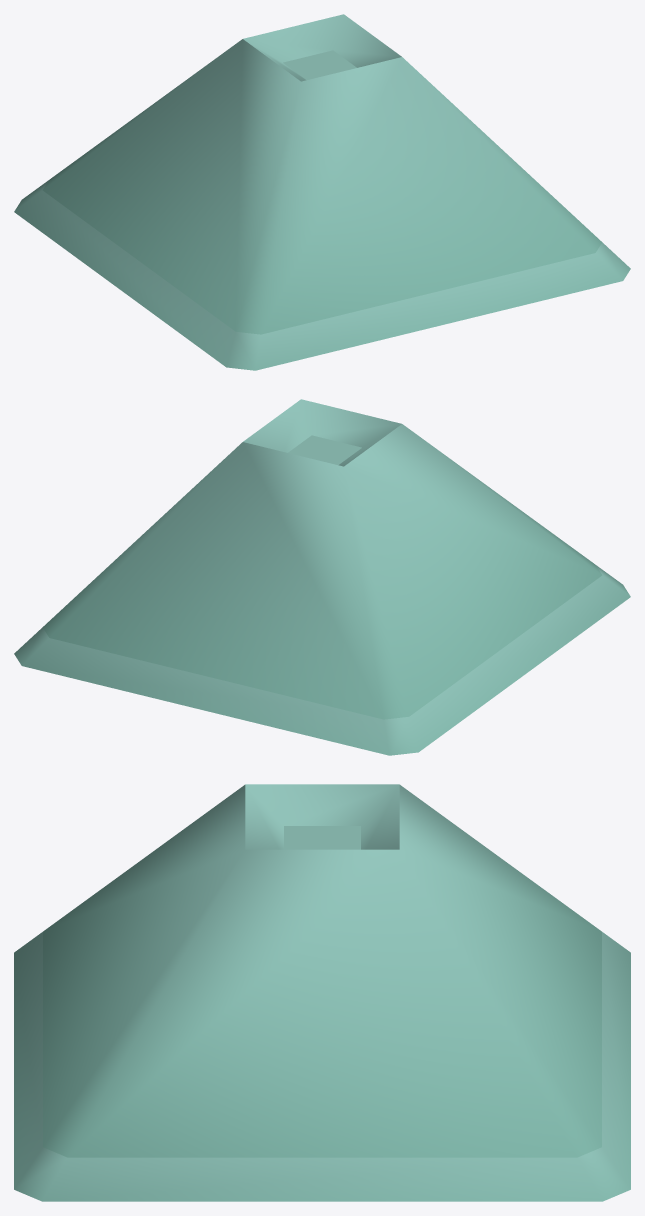
Rendered from roof-point.glb.
The picture shows the model from 3 angles, top to bottom: view 1: azimuth 30°, elevation 25°; view 2: azimuth 150°, elevation 25°; view 3: azimuth 270°, elevation 25°; orthographic projection. The views are drawn at different scales.
Parts seen in each view (by area): view 1: roof-point; view 2: roof-point; view 3: roof-point.
Boxes of the visible parts, <box> form: roof-point: <box>14,14,630,370</box>; roof-point: <box>14,399,630,755</box>; roof-point: <box>14,784,630,1201</box>.
Size of the model in its own units: 1.1 by 0.5 by 1.1.
